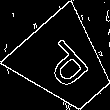P_SE: (34, 33, 96, 95)
